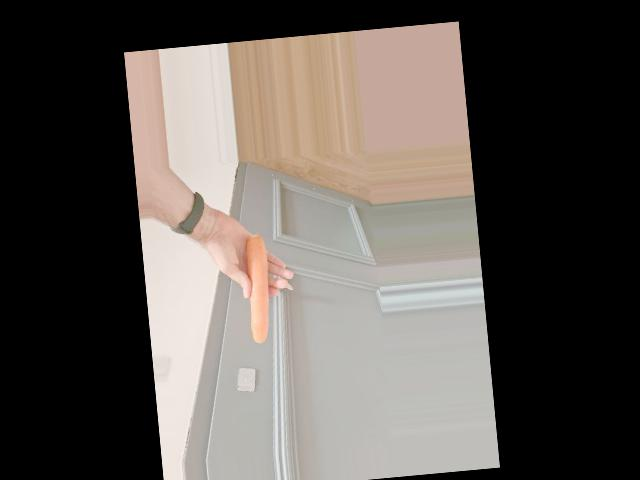carrot: (239, 234, 274, 342)
